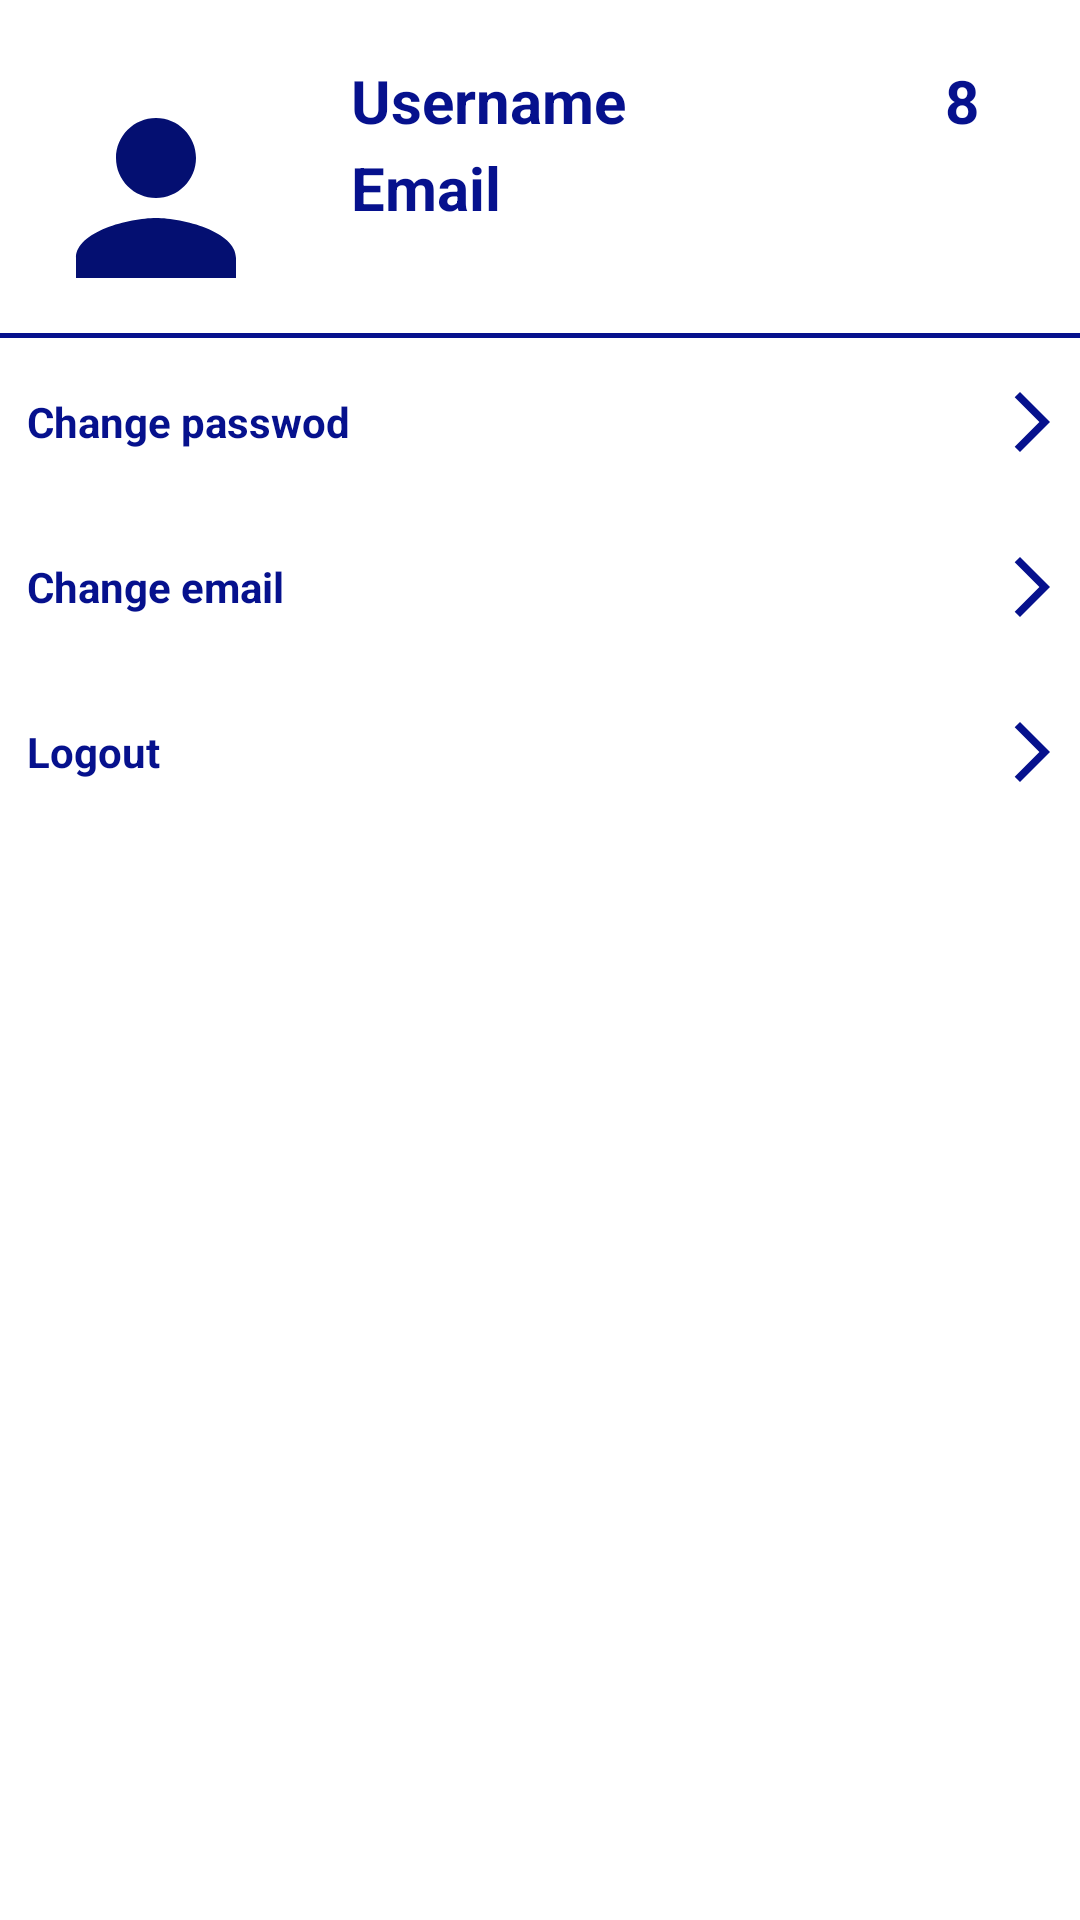

Icons on this 1080x1920 Android screen, each with the point to tap as [x,y]:
person: [156,198]
